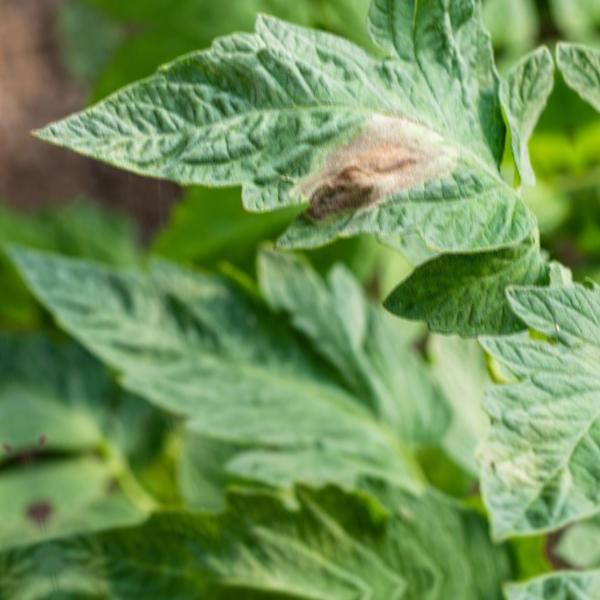Tomato leaf late blight: (2, 0, 590, 348), (429, 268, 600, 561)
